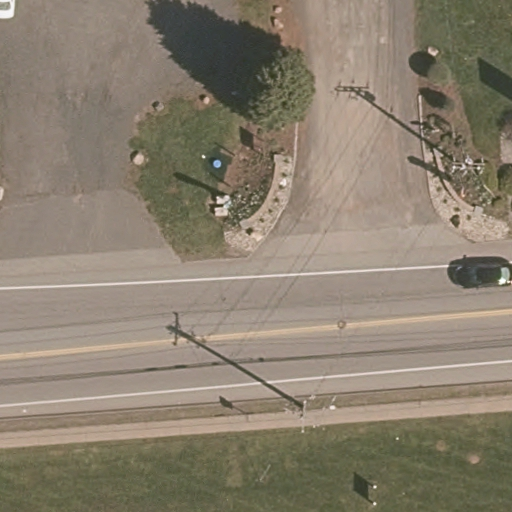DT: (433, 144, 501, 206), (285, 387, 345, 435)
